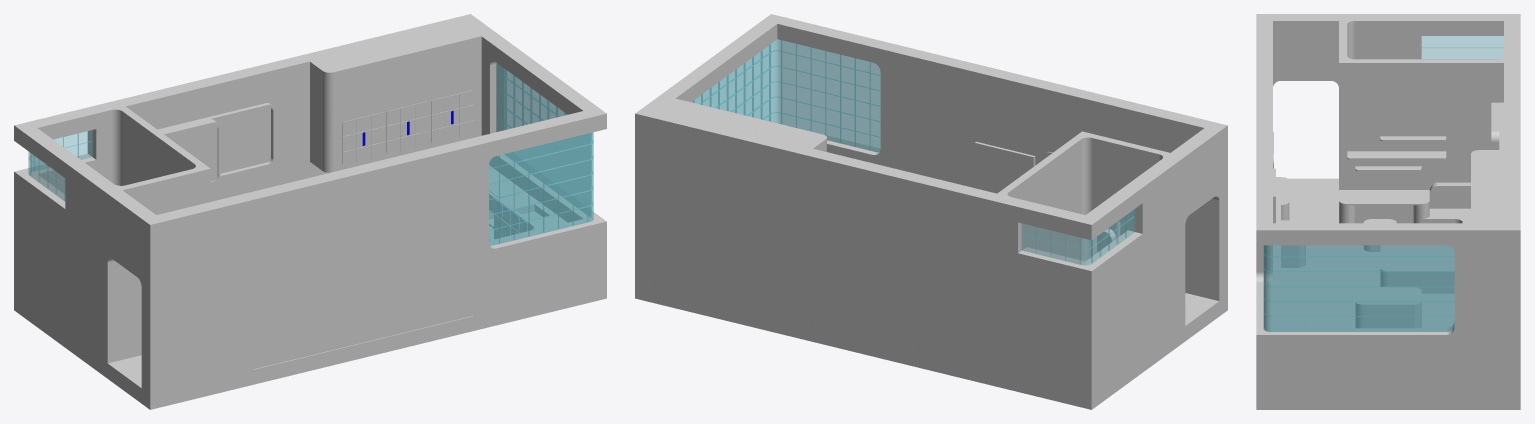
File: memory typeA OptionB.glb
3 renders of one model, left to right at view 1: azimuth 30°, elevation 25°; view 2: azimuth 150°, elevation 25°; view 3: azimuth 270°, elevation 25°, orthographic. The views are drawn at different scales.
Visible parts, largest first — view 1: 绿植区墙, 厕所墙, 客厅墙, 厨房墙, 卧室墙, 卧室衣柜, Glass, 卧室柜门, 白色石膏, 厨房橱柜, 米白色石膏, 厨房柜门; view 2: 卧室墙, 厕所墙, 绿植区墙, Glass, 客厅墙, 厨房墙, 卧室衣柜, 木板; view 3: 厨房墙, 厕所墙, Glass, 卧室墙, 客厅墙, 卧室床（软）, 厨房餐桌, 卧室衣柜, 绿植区墙, 卧室桌子, 卧室架子, 厨房橱柜 (+6 smaller).
Part boxes in pixels (x1=…): 绿植区墙: x1=245, y1=139, x2=474, y2=384; 厕所墙: x1=14, y1=100, x2=210, y2=378; 客厅墙: x1=107, y1=190, x2=253, y2=409; 厨房墙: x1=466, y1=32, x2=606, y2=330; 卧室墙: x1=117, y1=14, x2=495, y2=201; 卧室衣柜: x1=310, y1=24, x2=481, y2=172; Glass: x1=28, y1=63, x2=593, y2=245; 卧室柜门: x1=342, y1=90, x2=473, y2=165; 白色石膏: x1=157, y1=103, x2=275, y2=184; 厨房橱柜: x1=489, y1=165, x2=566, y2=241; 米白色石膏: x1=167, y1=125, x2=217, y2=181; 厨房柜门: x1=494, y1=199, x2=527, y2=238; 卧室墙: x1=635, y1=95, x2=996, y2=384; 厕所墙: x1=988, y1=131, x2=1185, y2=409; 绿植区墙: x1=895, y1=46, x2=1124, y2=252; Glass: x1=691, y1=39, x2=1135, y2=264; 客厅墙: x1=1116, y1=100, x2=1227, y2=340; 厨房墙: x1=661, y1=14, x2=903, y2=168; 卧室衣柜: x1=659, y1=98, x2=826, y2=151; 木板: x1=974, y1=141, x2=1052, y2=188; 厨房墙: x1=1256, y1=167, x2=1470, y2=409; 厕所墙: x1=1339, y1=14, x2=1520, y2=223; Glass: x1=1263, y1=36, x2=1503, y2=331; 卧室墙: x1=1306, y1=63, x2=1520, y2=409; 客厅墙: x1=1256, y1=14, x2=1338, y2=223; 卧室床（软）: x1=1380, y1=208, x2=1470, y2=278; 厨房餐桌: x1=1355, y1=287, x2=1421, y2=327; 卧室衣柜: x1=1471, y1=150, x2=1503, y2=223; 绿植区墙: x1=1256, y1=63, x2=1280, y2=286; 卧室桌子: x1=1339, y1=190, x2=1429, y2=223; 卧室架子: x1=1347, y1=136, x2=1446, y2=170; 厨房橱柜: x1=1273, y1=287, x2=1306, y2=327.
Bounding box in the file's own units: 9.3 × 3.6 × 4.8.
